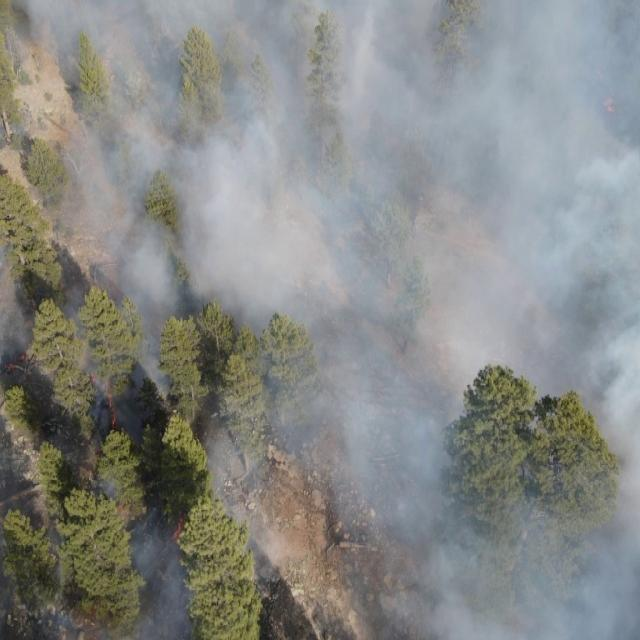fire: (88, 373, 120, 431), (4, 352, 28, 372), (602, 90, 618, 116), (172, 510, 184, 544)
smoke: (0, 0, 640, 640)
